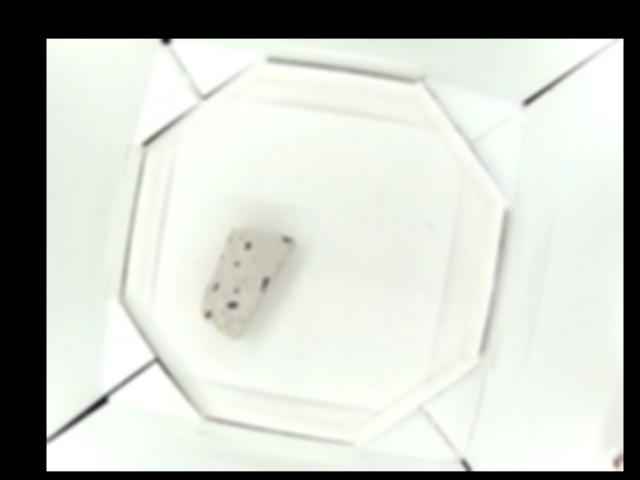China: (201, 227, 295, 337)
